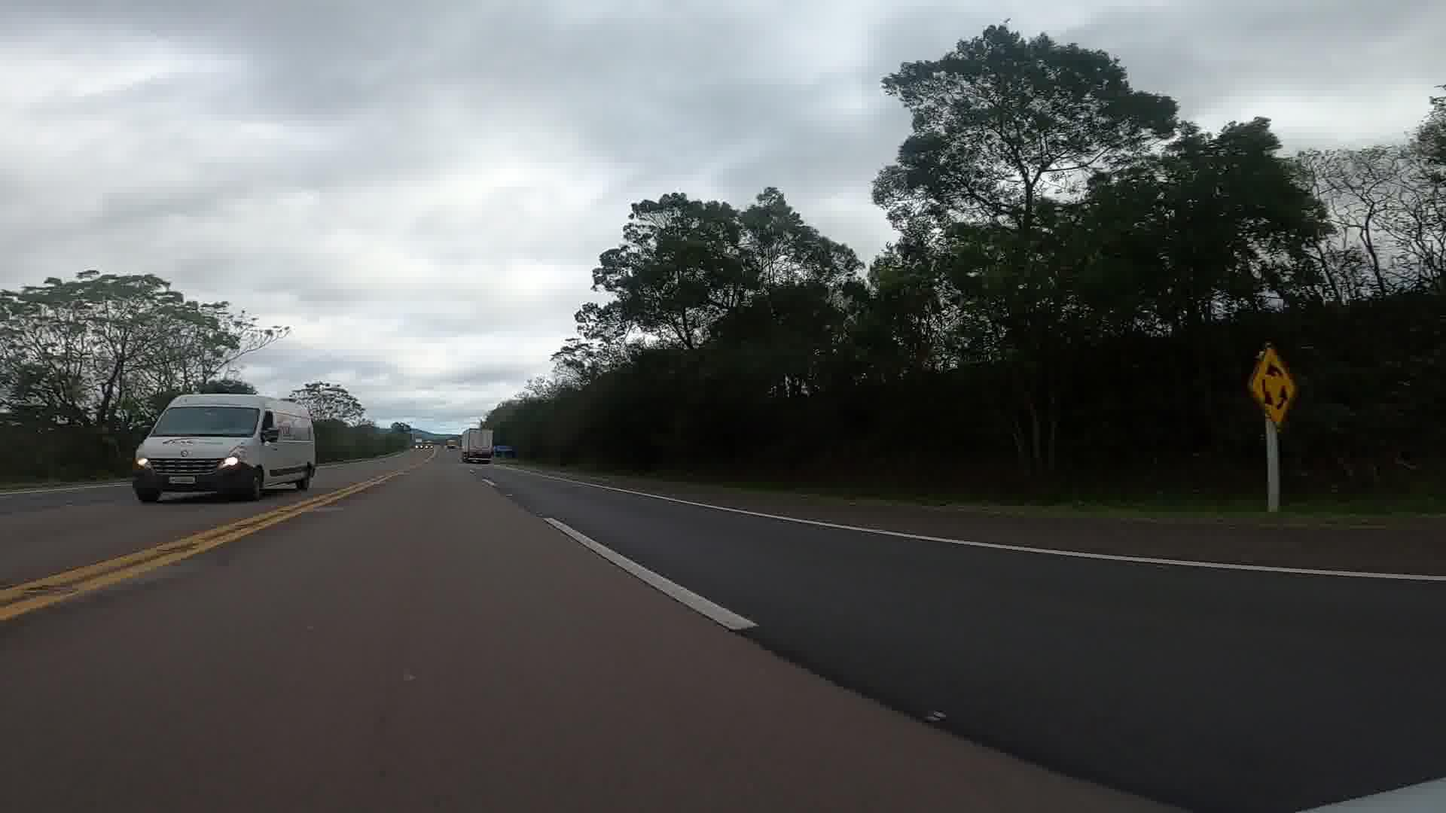A-12: (1242, 343, 1302, 432)
